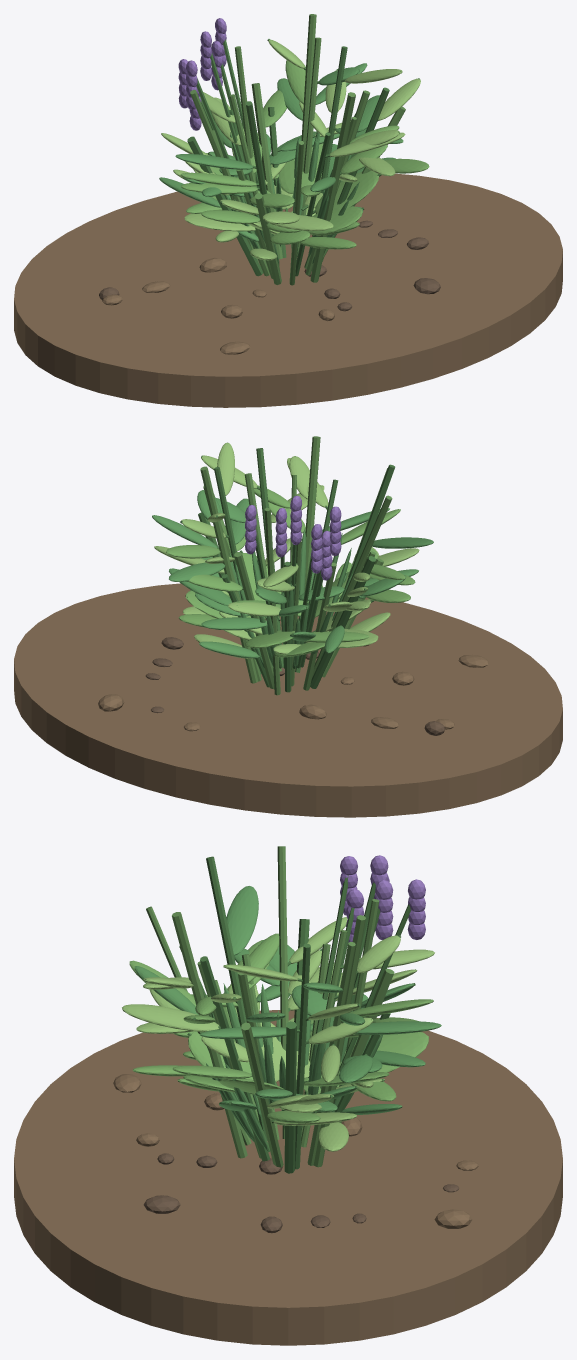
The model's file is Herbs.glb.
The picture shows the model from 3 angles, top to bottom: view 1: azimuth 30°, elevation 25°; view 2: azimuth 150°, elevation 25°; view 3: azimuth 270°, elevation 25°; orthographic projection. The views are drawn at different scales.
Parts seen in each view (by area): view 1: soil_mound, herb_stem_05, herb_stem_17, herb_stem_20, herb_stem_19, broad_leaf_01, herb_stem_21, herb_stem_11, herb_stem_09, herb_stem_12, herb_stem_16, leaf_027 (+23 smaller); view 2: soil_mound, herb_stem_19, herb_stem_05, herb_stem_11, herb_stem_16, herb_stem_12, herb_stem_17, herb_stem_09, leaf_052, herb_stem_13, leaf_061, leaf_067 (+13 smaller); view 3: soil_mound, herb_stem_05, herb_stem_11, leaf_027, herb_stem_09, herb_stem_01, herb_stem_21, leaf_010, herb_stem_00, herb_stem_03, herb_stem_19, broad_leaf_07 (+20 smaller).
Part boxes in pixels (x1=…): soil_mound: x1=14, y1=173, x2=562, y2=407; herb_stem_05: x1=310, y1=92, x2=355, y2=282; herb_stem_17: x1=251, y1=83, x2=282, y2=259; herb_stem_20: x1=297, y1=37, x2=321, y2=256; herb_stem_19: x1=301, y1=14, x2=316, y2=171; broad_leaf_01: x1=315, y1=170, x2=378, y2=213; herb_stem_21: x1=312, y1=46, x2=347, y2=236; herb_stem_11: x1=190, y1=90, x2=269, y2=276; herb_stem_09: x1=245, y1=101, x2=280, y2=272; herb_stem_12: x1=187, y1=136, x2=263, y2=276; herb_stem_16: x1=235, y1=46, x2=255, y2=181; leaf_027: x1=175, y1=154, x2=253, y2=169; soil_mound: x1=14, y1=583, x2=562, y2=817; herb_stem_19: x1=200, y1=466, x2=257, y2=683; herb_stem_05: x1=299, y1=436, x2=320, y2=620; herb_stem_11: x1=312, y1=495, x2=392, y2=677; herb_stem_16: x1=264, y1=507, x2=280, y2=695; herb_stem_12: x1=310, y1=556, x2=376, y2=688; herb_stem_17: x1=234, y1=551, x2=274, y2=688; herb_stem_09: x1=344, y1=464, x2=395, y2=588; leaf_052: x1=201, y1=617, x2=267, y2=630; herb_stem_13: x1=303, y1=562, x2=336, y2=690; leaf_061: x1=152, y1=515, x2=217, y2=548; leaf_067: x1=217, y1=443, x2=234, y2=495; soil_mound: x1=14, y1=1010, x2=562, y2=1345; herb_stem_05: x1=172, y1=912, x2=247, y2=1158; herb_stem_11: x1=277, y1=846, x2=288, y2=1138; leaf_027: x1=226, y1=886, x2=258, y2=955; herb_stem_09: x1=206, y1=856, x2=267, y2=1140; herb_stem_01: x1=241, y1=1022, x2=283, y2=1167; herb_stem_21: x1=295, y1=943, x2=310, y2=1169; leaf_010: x1=122, y1=1004, x2=219, y2=1031; herb_stem_00: x1=284, y1=1021, x2=296, y2=1173; herb_stem_03: x1=200, y1=956, x2=269, y2=1161; herb_stem_19: x1=313, y1=915, x2=365, y2=1167; broad_leaf_07: x1=321, y1=1032, x2=428, y2=1077.
Bounding box in the file's own units: 2.7 × 1.33 × 2.1.
